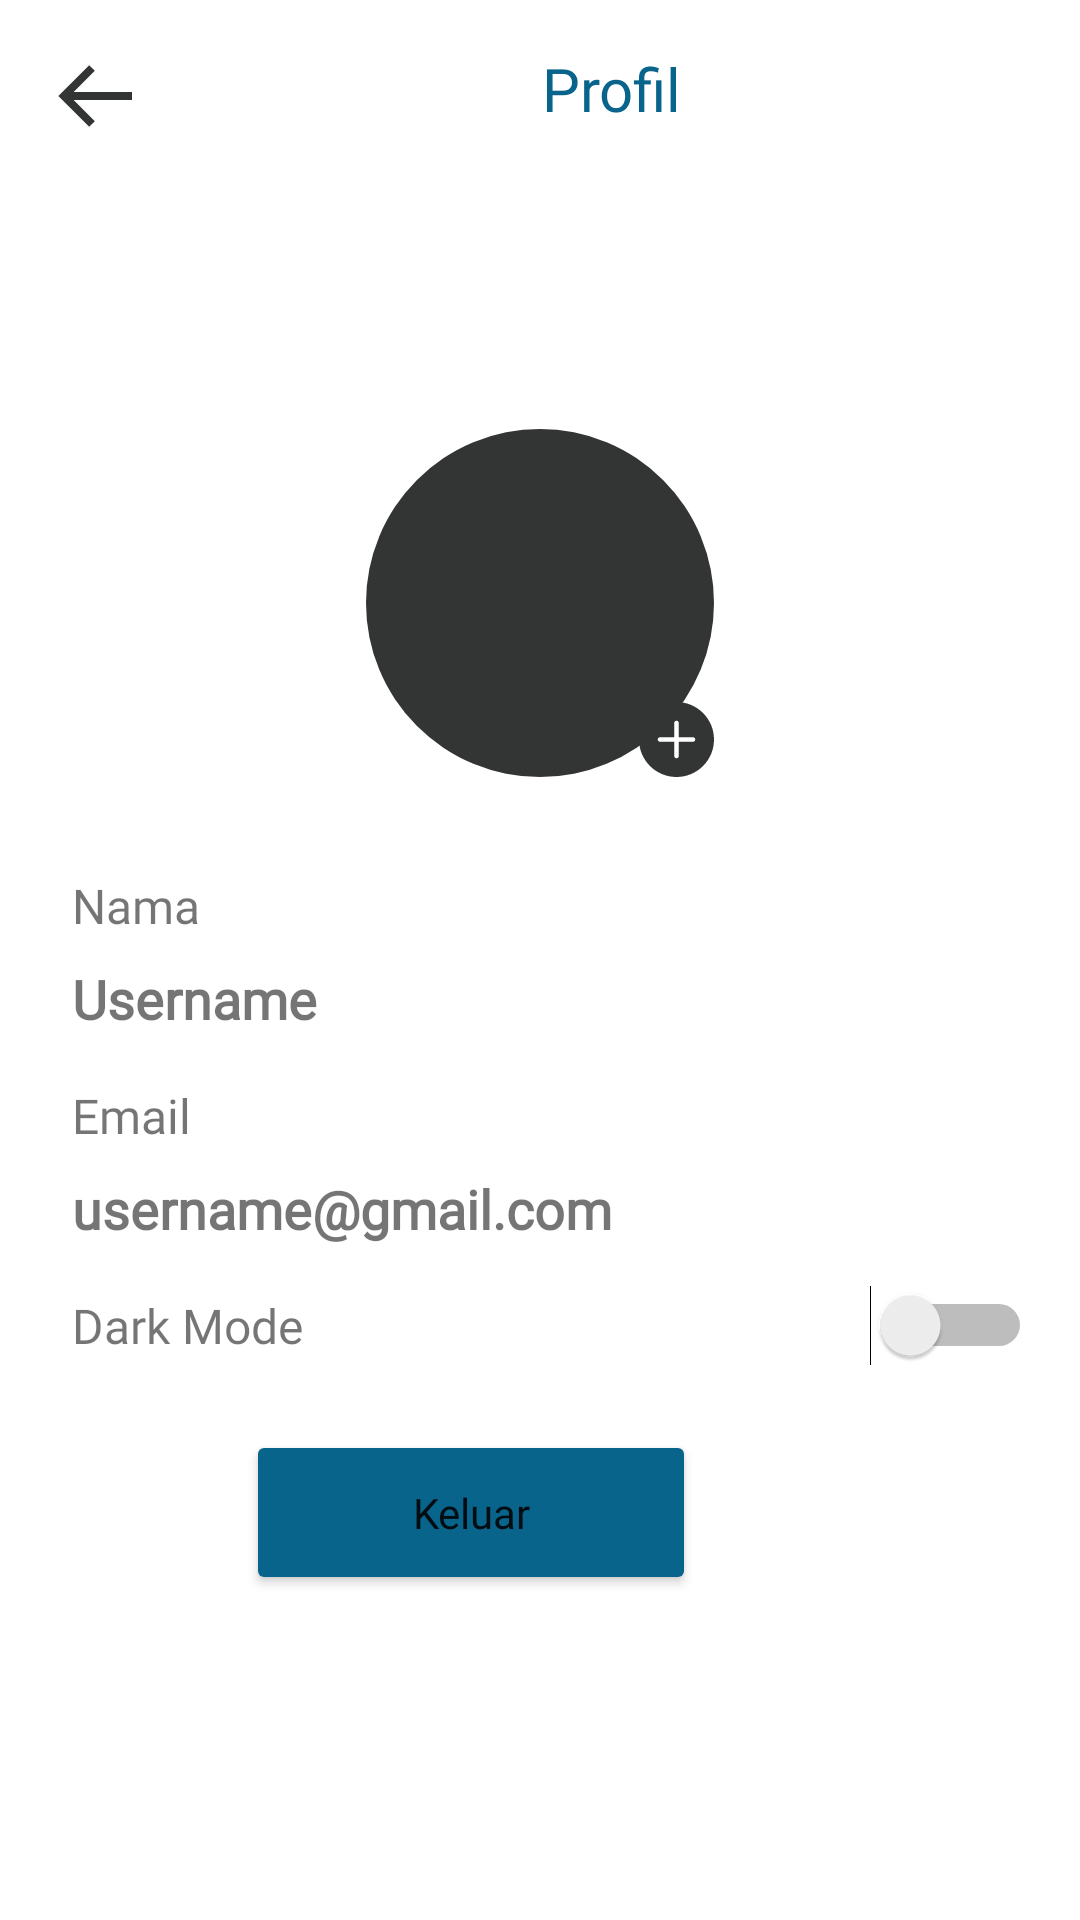

Where icons sit on this 1080w x 1920h app screen, as [x1,y1,x2,y2]:
back: [58,65,132,127]
